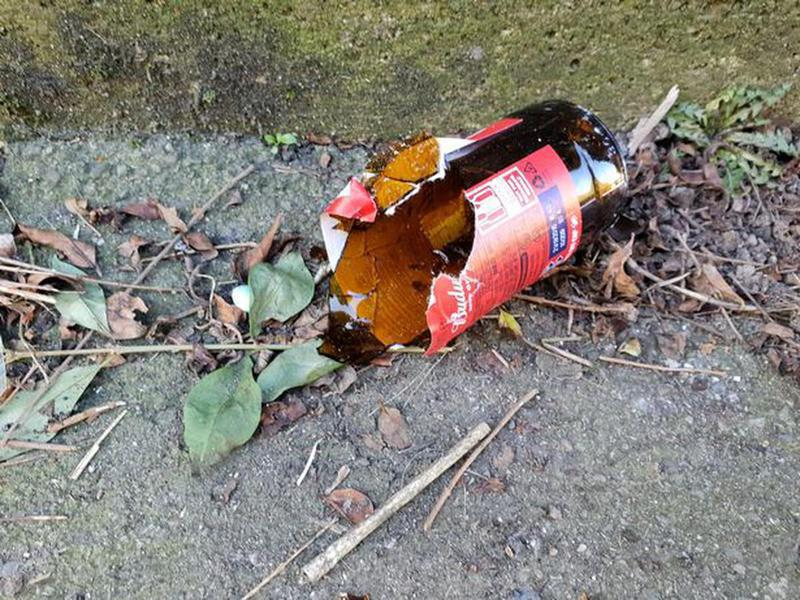bottle: (317, 93, 633, 358)
leaf: (169, 354, 264, 474), (5, 360, 102, 461), (234, 244, 317, 341), (43, 252, 113, 339), (259, 342, 350, 403), (15, 218, 102, 268), (120, 195, 189, 234)
